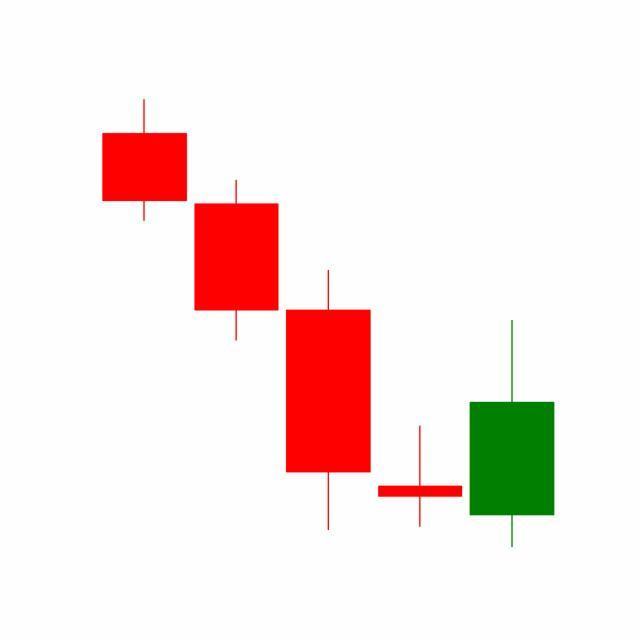Morning Star: (280, 266, 555, 548)
